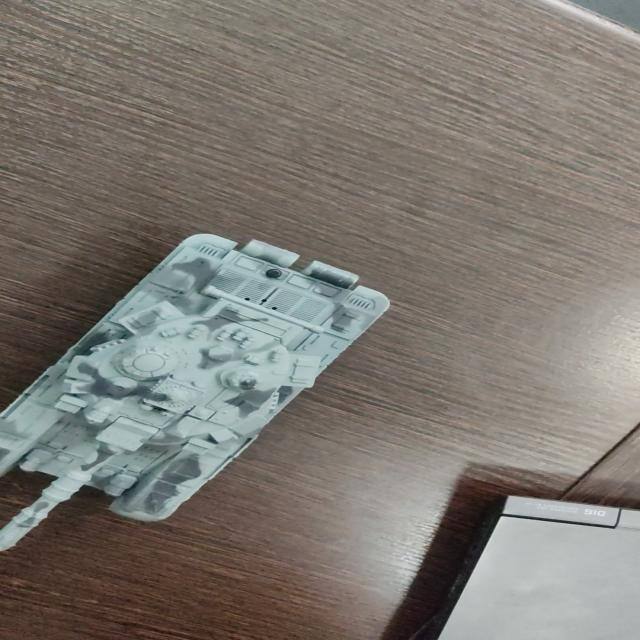tank: (0, 225, 400, 562)
